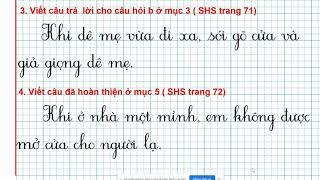text: (40, 23, 300, 52), (42, 104, 311, 132), (16, 131, 162, 160), (17, 53, 134, 79), (19, 5, 257, 16), (17, 86, 227, 98)
